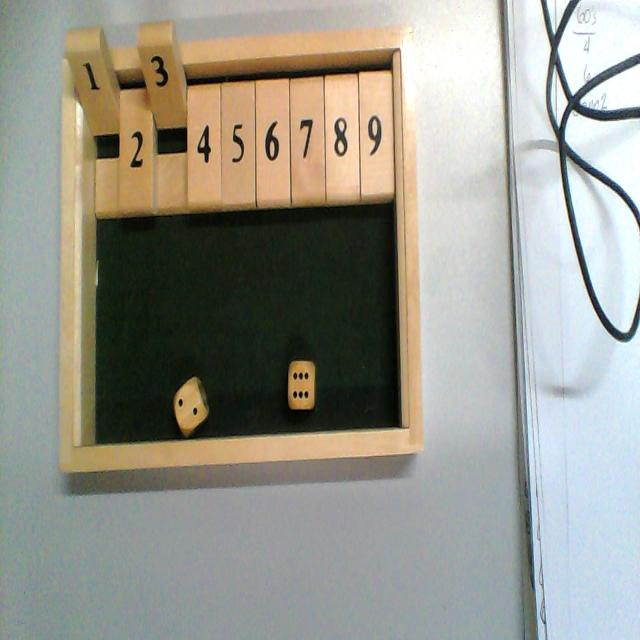2: (171, 375, 210, 440)
6: (285, 354, 318, 418)
C2: (117, 49, 155, 217)
C4: (187, 42, 220, 213)
C5: (221, 36, 257, 210)
C6: (256, 37, 292, 213)
C7: (290, 32, 326, 210)
C8: (325, 30, 361, 206)
C9: (358, 28, 396, 204)
O1: (66, 29, 120, 218)
O3: (137, 23, 186, 214)
